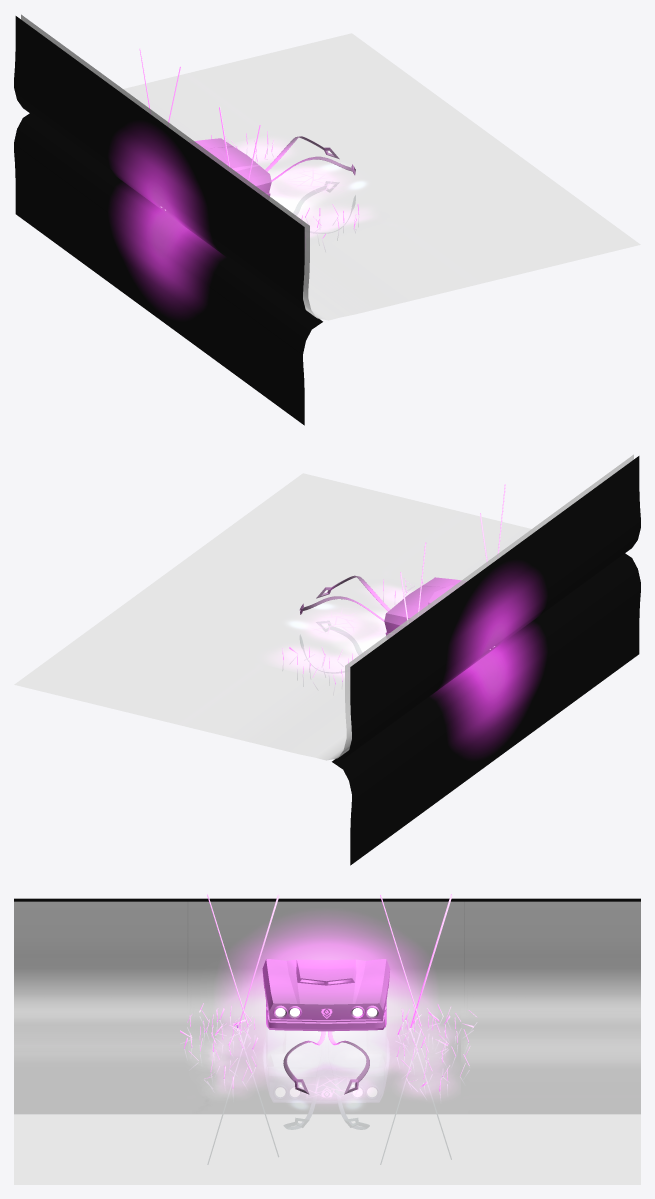
3 renders of one model, top to bottom at view 1: azimuth 30°, elevation 25°; view 2: azimuth 150°, elevation 25°; view 3: azimuth 270°, elevation 25°, orthographic. The views are drawn at different scales.
Visible parts, largest first — view 1: Plane.007, G, Cube.003, Cylinder.102; view 2: Plane.007, G, Cube.003, Cylinder.102; view 3: Plane.007, G, Cube.003, Cube.005, Cylinder.102, Light.
Part boxes in pixels (left/top/right/bottom): Plane.007: left=21, top=14, right=640, bottom=320; G: left=14, top=16, right=322, bottom=425; Cube.003: left=160, top=136, right=355, bottom=210; Cylinder.102: left=139, top=48, right=359, bottom=238; Plane.007: left=14, top=454, right=633, bottom=760; G: left=332, top=456, right=640, bottom=865; Cube.003: left=299, top=575, right=494, bottom=649; Cylinder.102: left=282, top=484, right=505, bottom=683; Plane.007: left=14, top=901, right=640, bottom=1184; G: left=14, top=898, right=640, bottom=1113; Cube.003: left=262, top=959, right=389, bottom=1094; Cube.005: left=184, top=1019, right=468, bottom=1164; Cylinder.102: left=180, top=894, right=477, bottom=1090; Light: left=275, top=1008, right=377, bottom=1096.
Size of the model in its own units: 38.69 by 27.29 by 57.32.
Materials: 10 (4 with a texture image).
